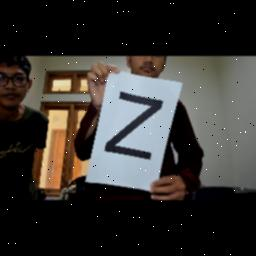z: (102, 86, 164, 164)
